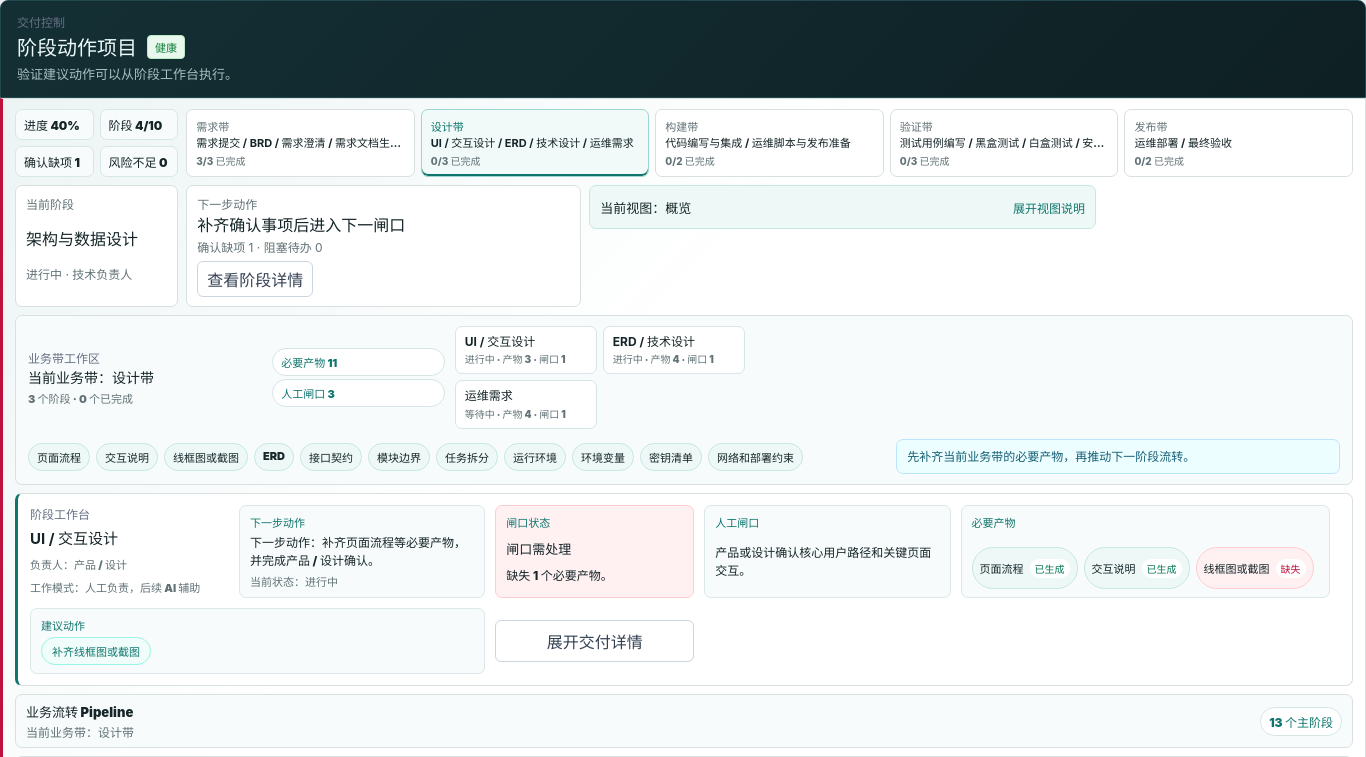
Test: ProjectWorkspace › runs a suggested pipeline action from the stage workbench
Click the button "补齐线框图或截图".
click(96, 651)  # box [41, 637, 151, 665]
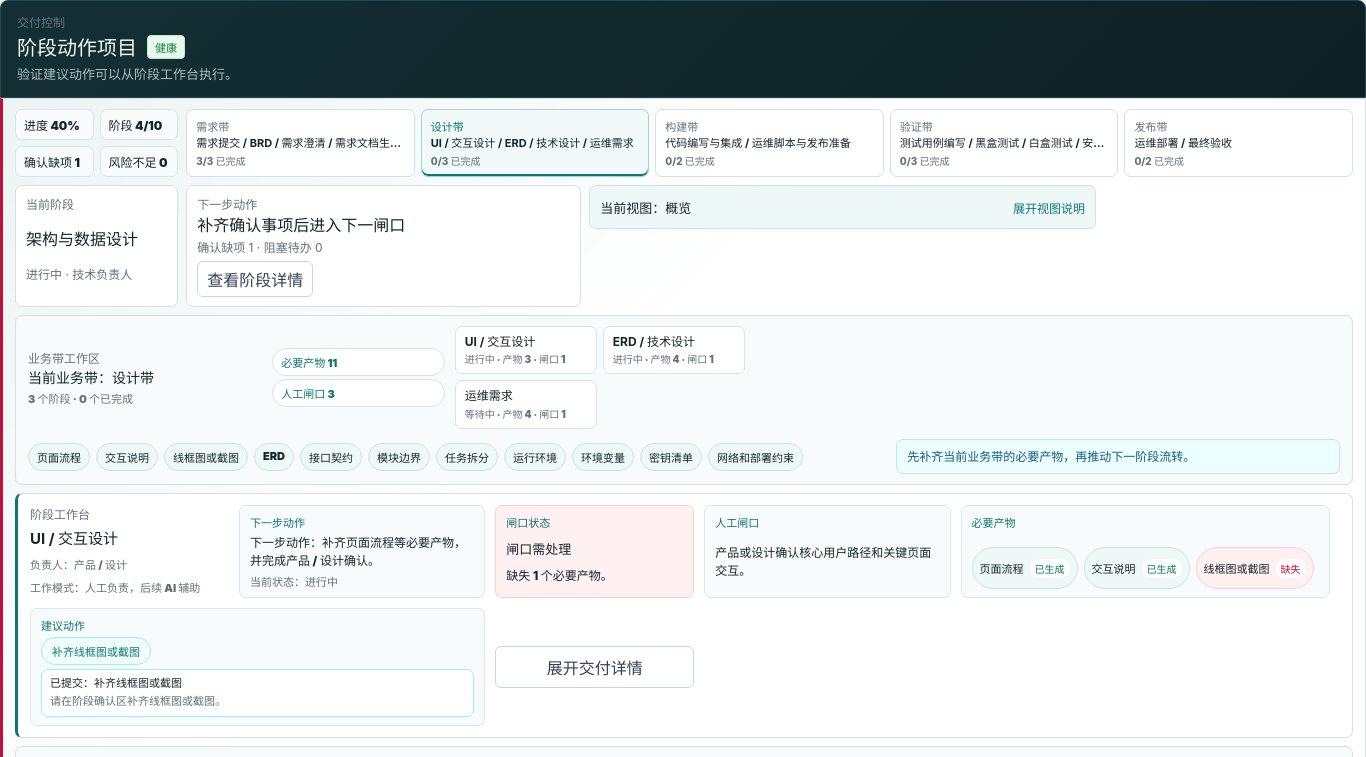
Check: the text "已提交：补齐线框图或截图" is shown, box [50, 676, 182, 690]
Check: the text "请在阶段确认区补齐线框图或截图。" is shown, box [50, 694, 226, 708]
